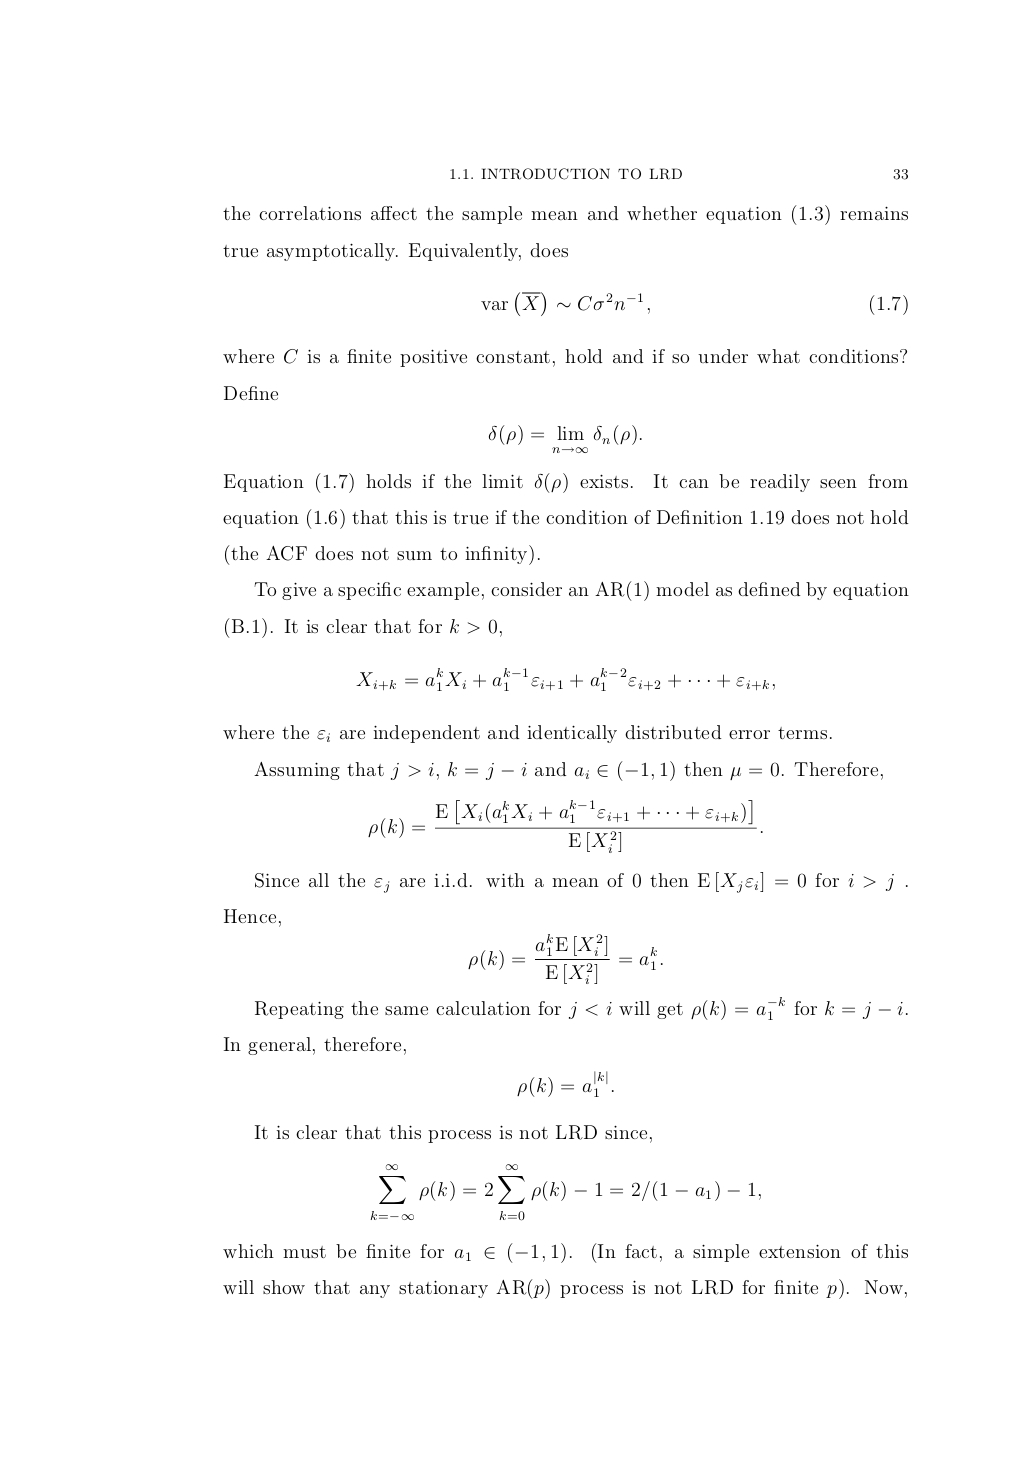formula: (368, 798, 762, 853), (370, 1165, 760, 1220), (481, 291, 907, 316), (468, 933, 662, 984), (356, 667, 774, 690), (488, 424, 640, 454), (517, 1070, 613, 1096)
